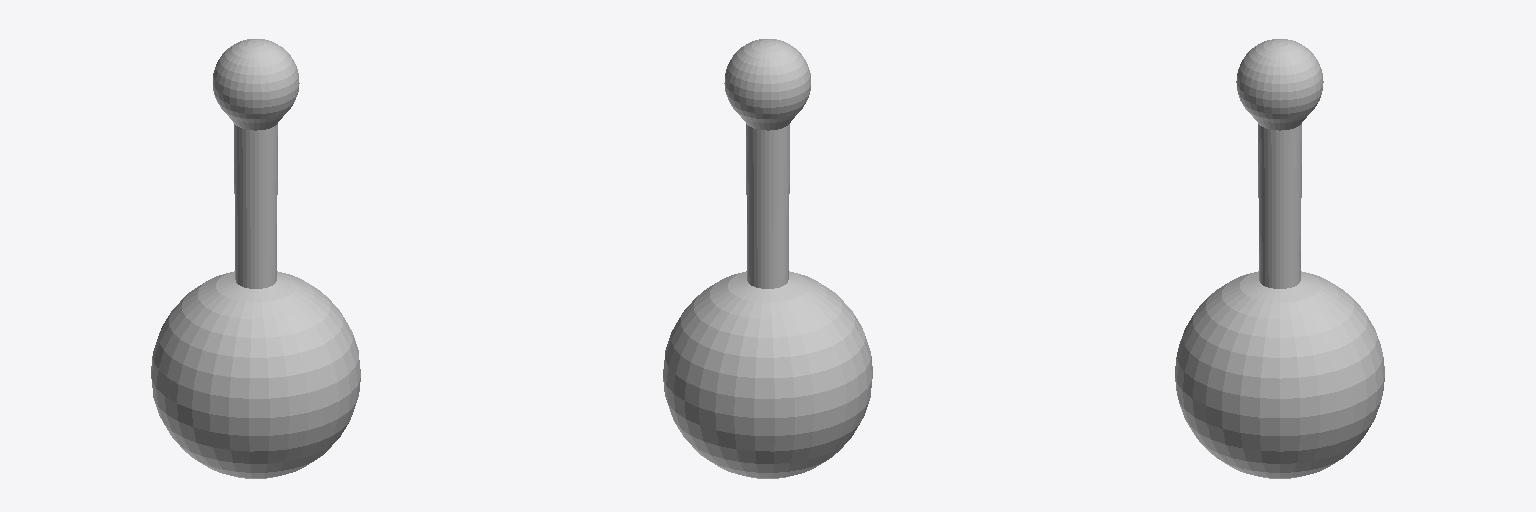
Rendered from joystick.obj.
The picture shows the model from 3 angles: view 1: azimuth 30°, elevation 25°; view 2: azimuth 150°, elevation 25°; view 3: azimuth 270°, elevation 25°; orthographic projection.
Visible parts, largest first — view 1: Joystick_Sphere.002; view 2: Joystick_Sphere.002; view 3: Joystick_Sphere.002.
Part boxes in pixels (left/top/right/bottom): Joystick_Sphere.002: left=151, top=39, right=360, bottom=478; Joystick_Sphere.002: left=663, top=39, right=872, bottom=478; Joystick_Sphere.002: left=1175, top=39, right=1384, bottom=478.
Bounding box in the file's own units: 0.2689 × 0.6014 × 0.2689.